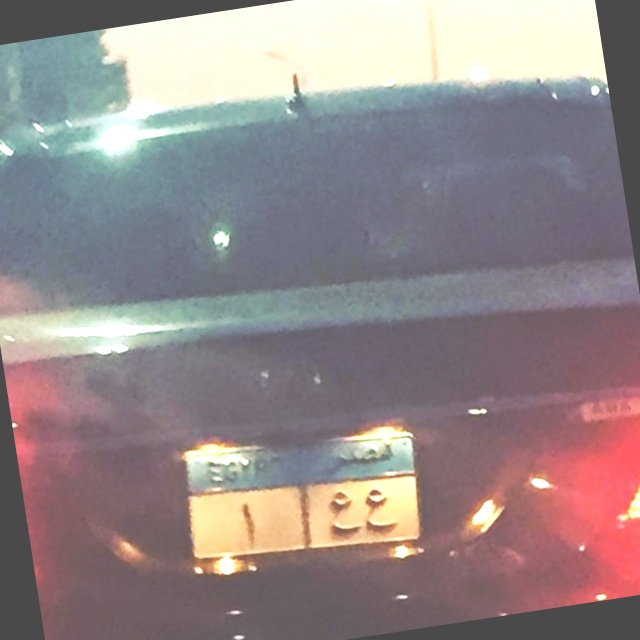License Plate: (169, 409, 437, 583)
